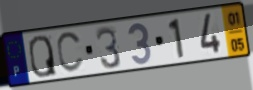1: (167, 16, 186, 60)
3: (95, 25, 122, 71), (127, 21, 153, 67)
4: (199, 11, 223, 57)
C: (55, 30, 85, 75)
Q: (27, 33, 59, 79)
